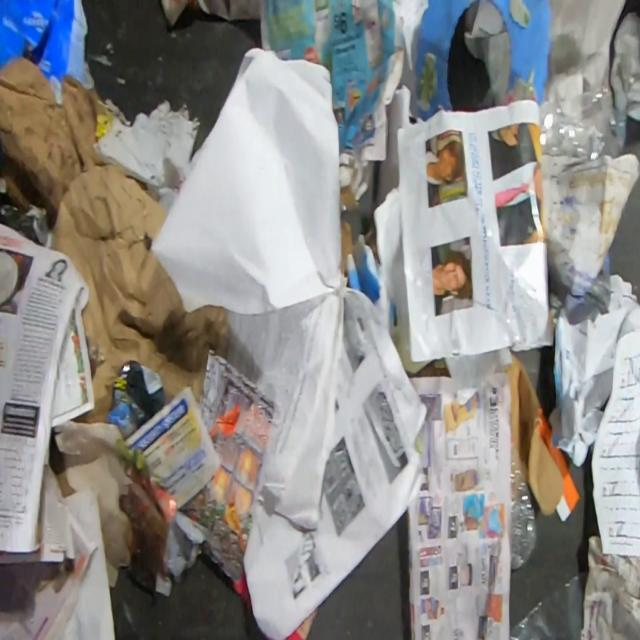cardboard: (503, 355, 580, 522)
rigid_plastic: (509, 444, 538, 570)
soft_plastic: (538, 85, 628, 163), (510, 570, 589, 640)
